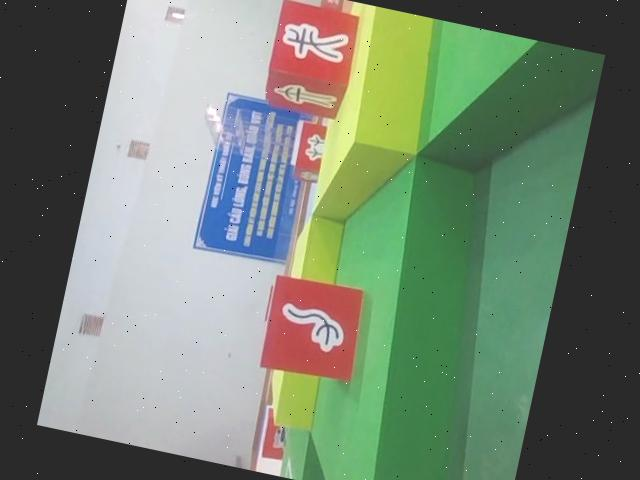R2 Fake: (258, 0, 363, 124)
R2 Real: (253, 269, 367, 388)
